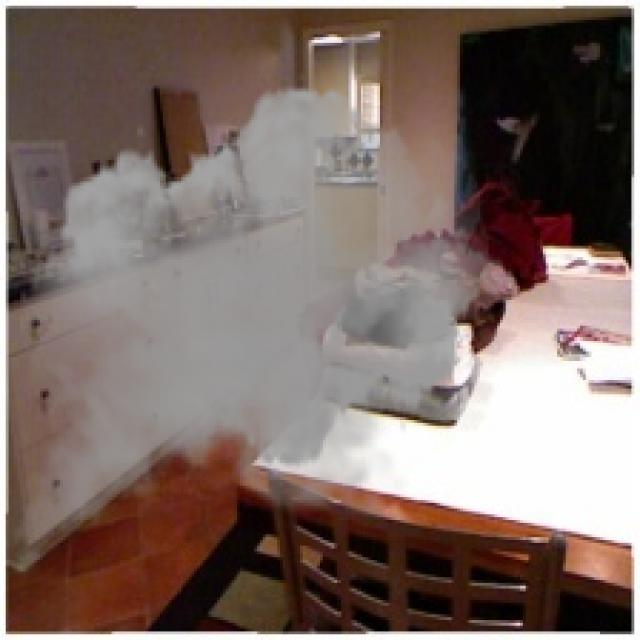smoke: (0, 71, 517, 603)
